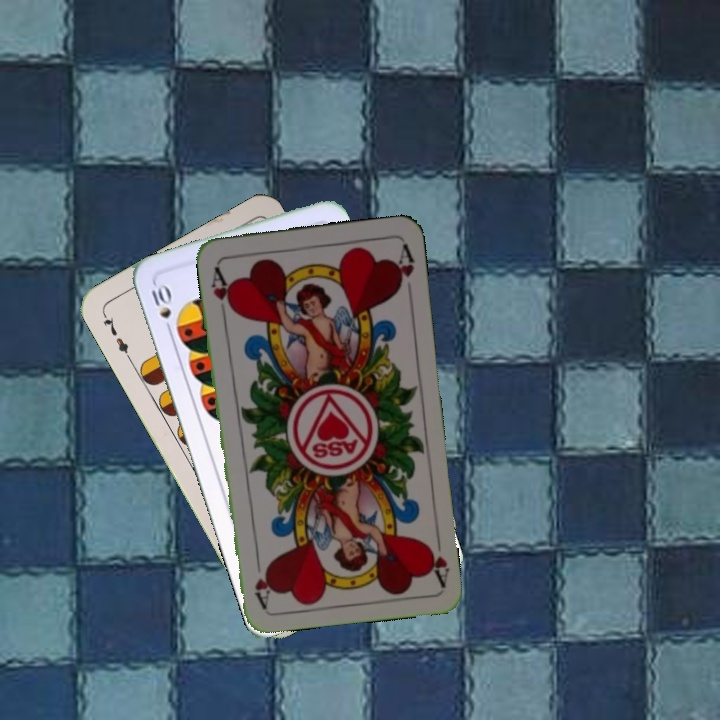E7: (98, 309, 134, 363)
HA: (421, 528, 452, 588), (207, 262, 236, 319)
S10: (147, 279, 175, 337)
